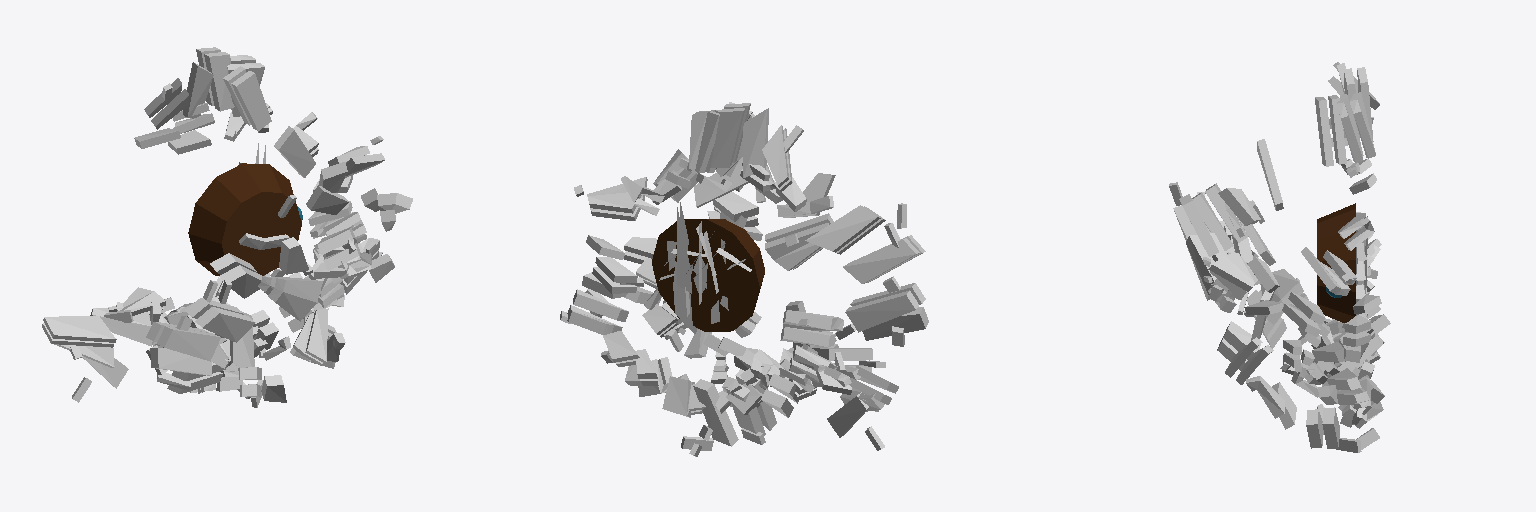
The picture shows the model from 3 angles: view 1: azimuth 30°, elevation 25°; view 2: azimuth 150°, elevation 25°; view 3: azimuth 270°, elevation 25°; orthographic projection.
Parts seen in each view (by area): view 1: Cone.001_Cone.001_cover, Cone_Cone_cover, Cylinder_Cylinder_Material.001; view 2: Cone_Cone_cover, Cone.001_Cone.001_cover, Cylinder_Cylinder_Material.001, Plane_Plane_Material.003; view 3: Cone_Cone_cover, Cone.001_Cone.001_cover, Cylinder_Cylinder_Material.001, Plane_Plane_Material.003.
Part boxes in pixels (bbox=[...]): Cone.001_Cone.001_cover: bbox=[42, 47, 384, 402]; Cone_Cone_cover: bbox=[104, 162, 412, 407]; Cylinder_Cylinder_Material.001: bbox=[188, 163, 301, 275]; Cone_Cone_cover: bbox=[560, 149, 928, 456]; Cone.001_Cone.001_cover: bbox=[574, 102, 906, 450]; Cylinder_Cylinder_Material.001: bbox=[652, 219, 764, 331]; Plane_Plane_Material.003: bbox=[659, 202, 751, 333]; Cone_Cone_cover: bbox=[1173, 183, 1390, 452]; Cone.001_Cone.001_cover: bbox=[1169, 62, 1381, 397]; Cylinder_Cylinder_Material.001: bbox=[1317, 203, 1355, 322]; Plane_Plane_Material.003: bbox=[1356, 212, 1367, 315].
Size of the model in its own units: 3.42 by 3.53 by 1.97.
4 materials, 1 textured.